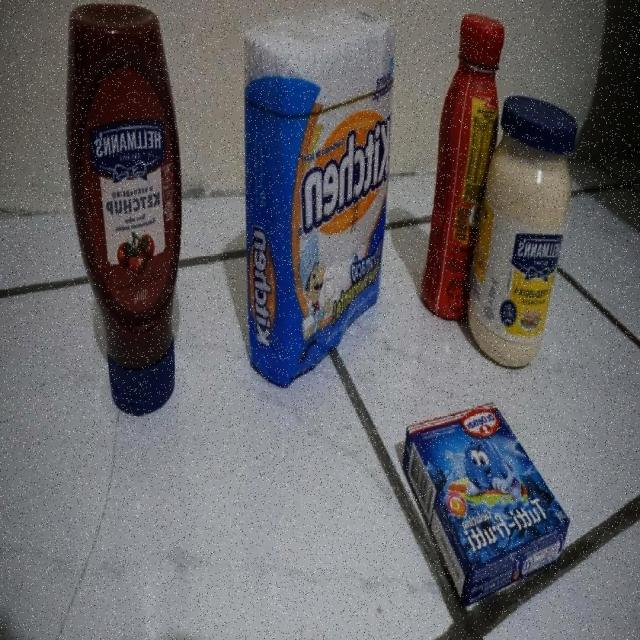ChocolateMilk: (419, 12, 505, 322)
Gelatine: (400, 402, 571, 604)
Ketchup: (62, 4, 182, 414)
Mayonnaise: (466, 97, 580, 368)
Napkin: (242, 0, 397, 388)
